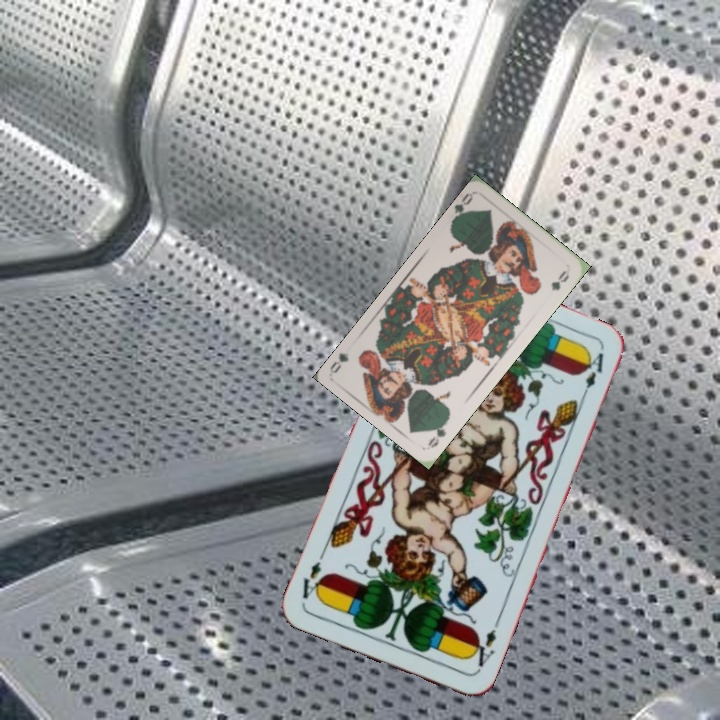EA: (465, 625, 499, 675)
GO: (447, 189, 476, 226), (423, 414, 452, 451)
